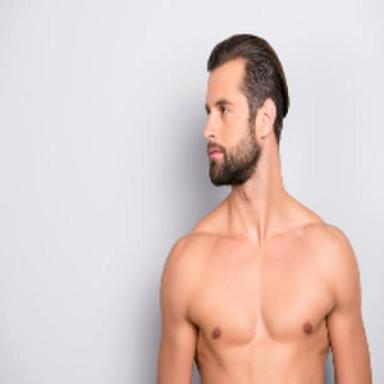normal skin: (158, 101, 371, 384)
